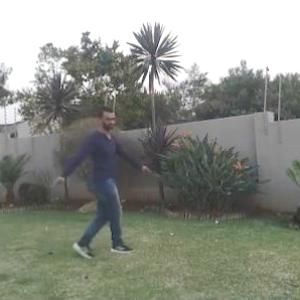land: (44, 92, 157, 278)
